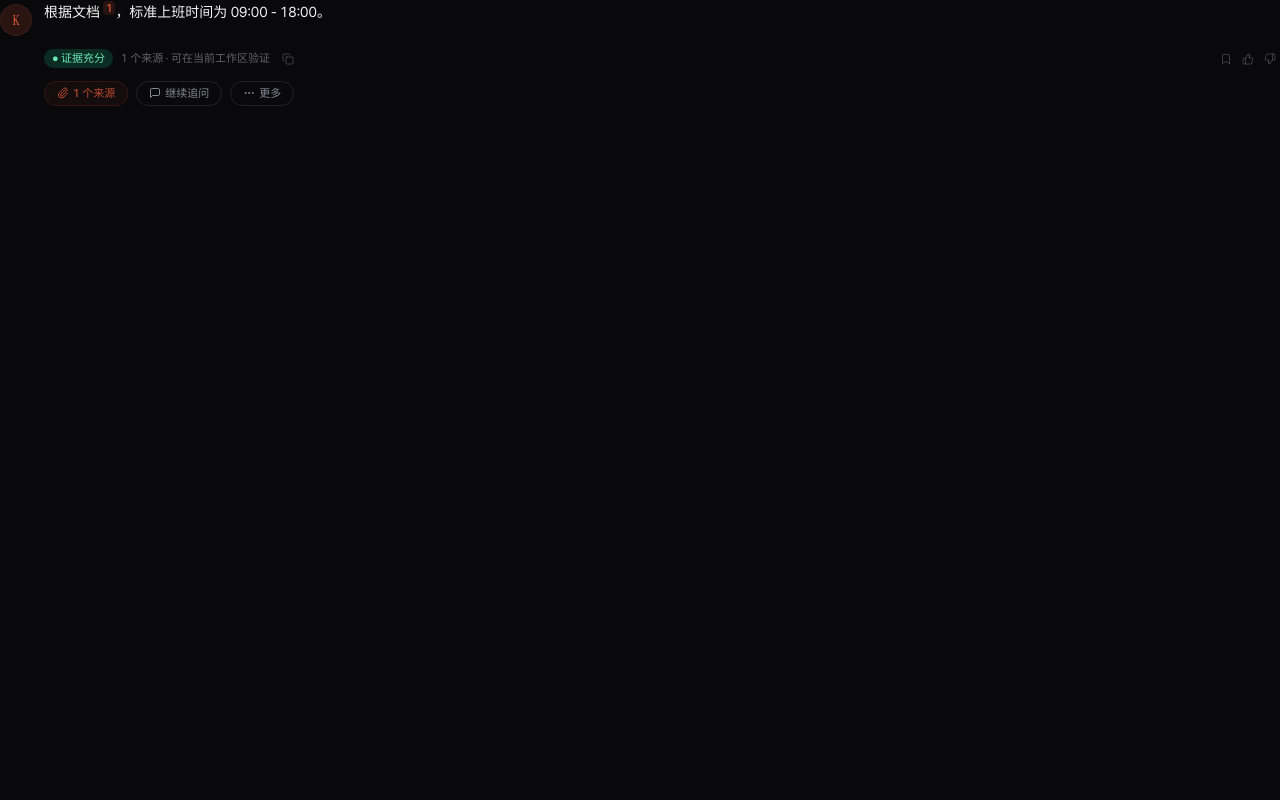
Test case: MessageBubble › submits unhelpful feedback without leaking state into other overlays
Click the button named "无帮助" at (1270, 58), box [1260, 48, 1279, 68]
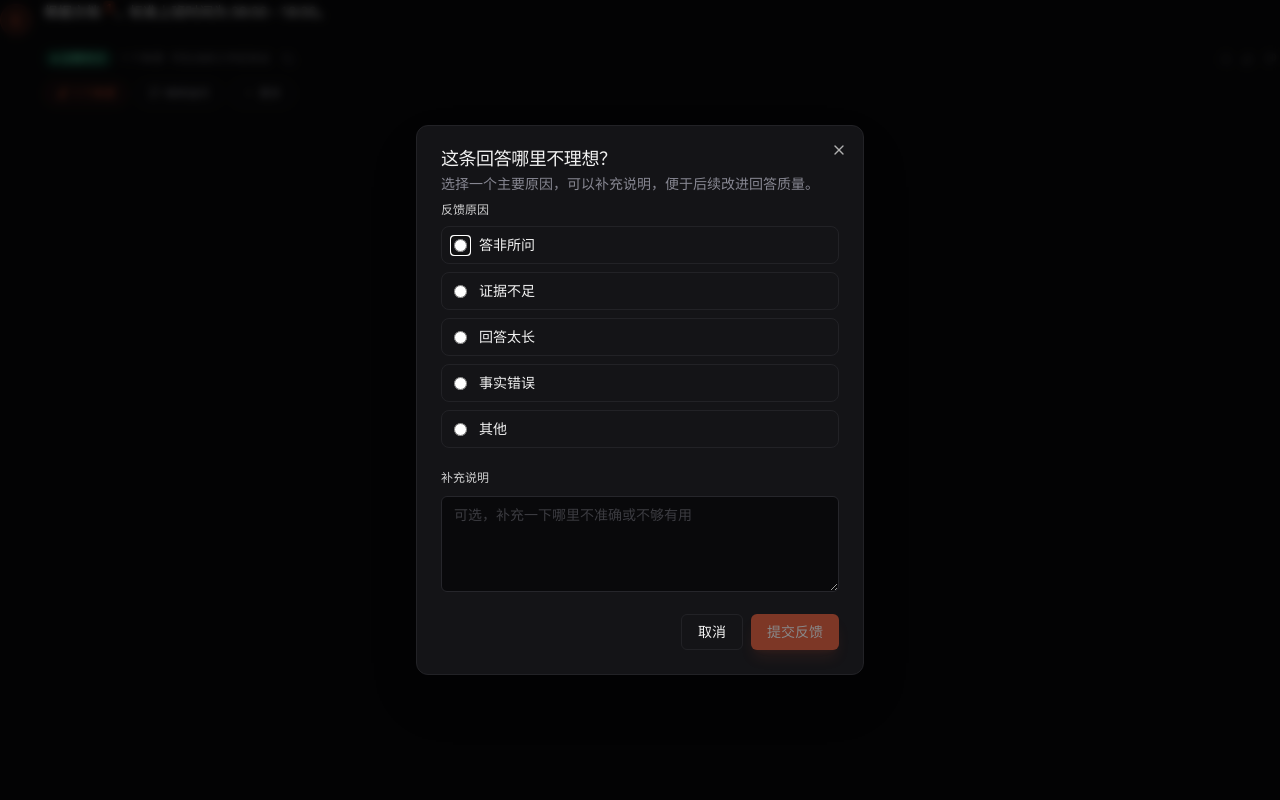
Expected: the dialog "这条回答哪里不理想？" is shown, [416, 125, 864, 675]
Click the radio button labelled "答非所问" at (460, 245), box [454, 238, 467, 252]
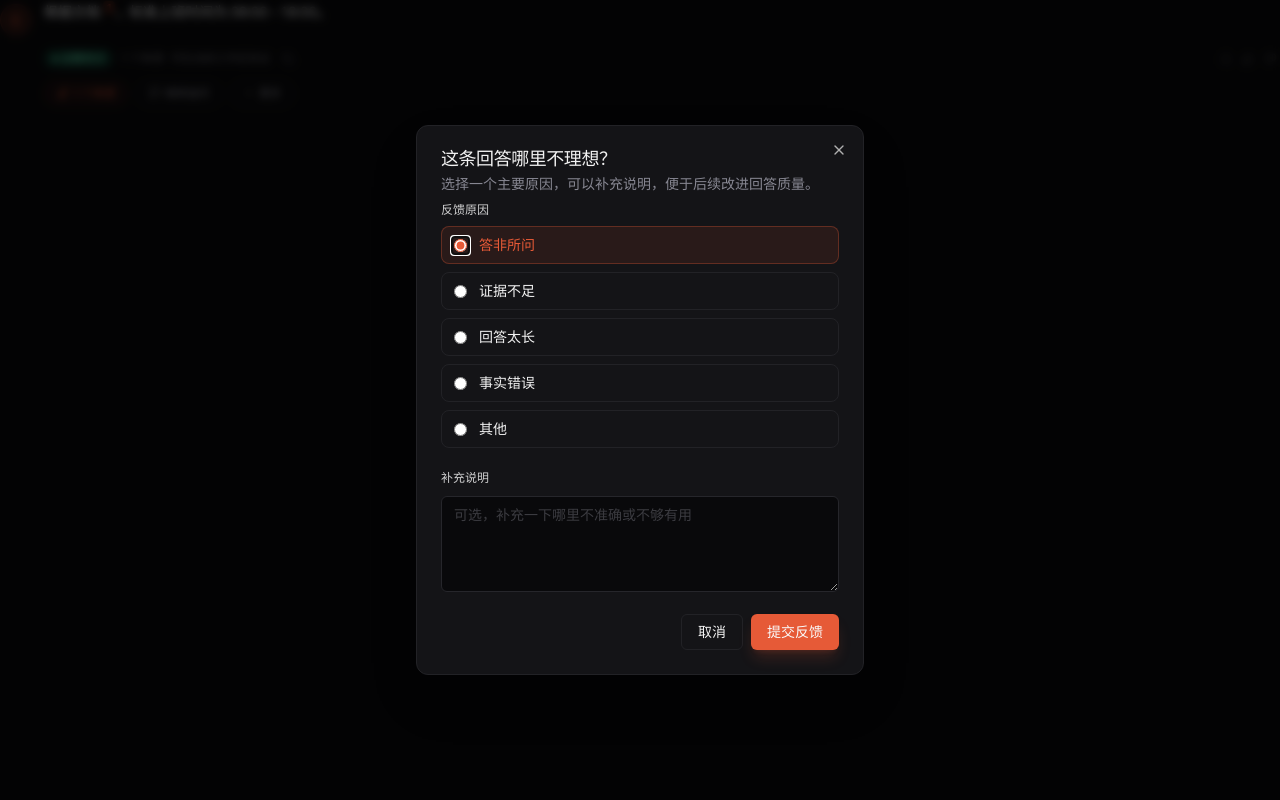
Type "没有回答时间范围" into the text box labelled "补充说明" at (640, 544), box [441, 496, 839, 592]
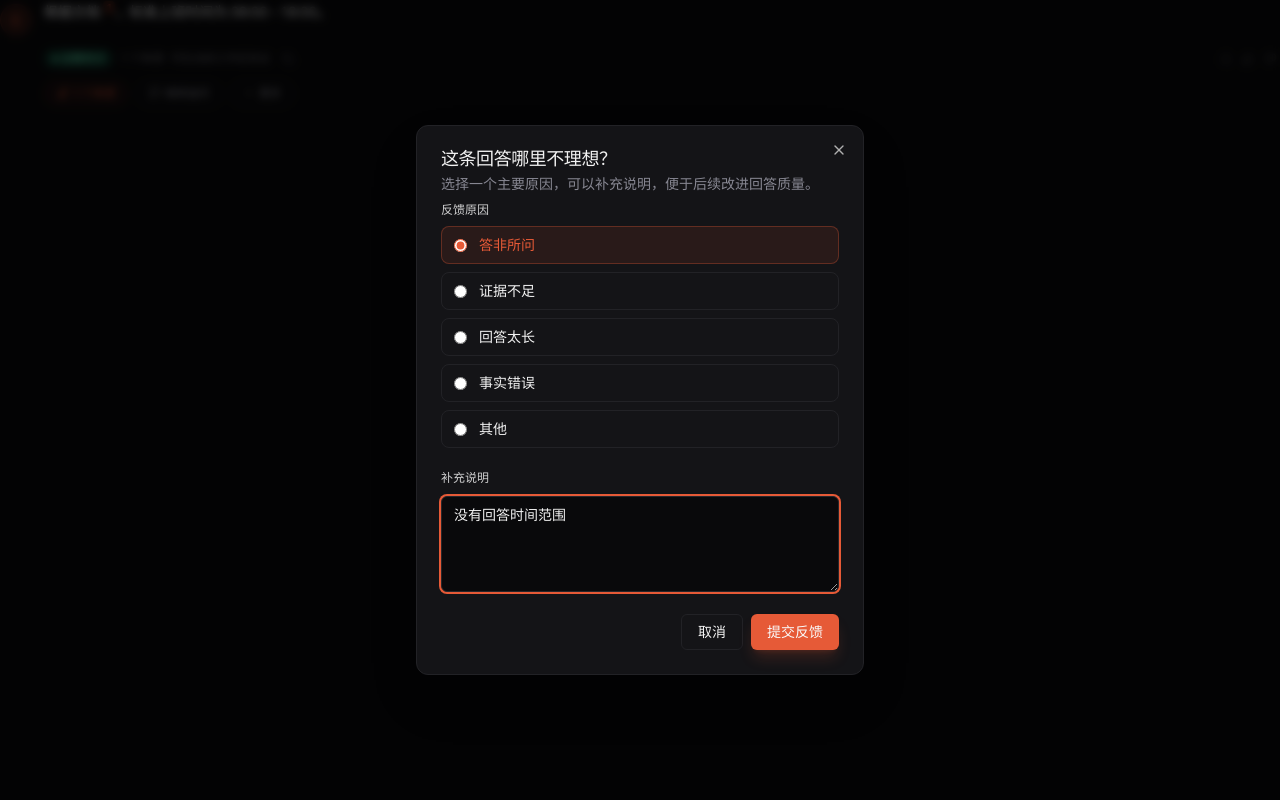
Click the button "提交反馈" at (795, 632), box [751, 614, 839, 650]
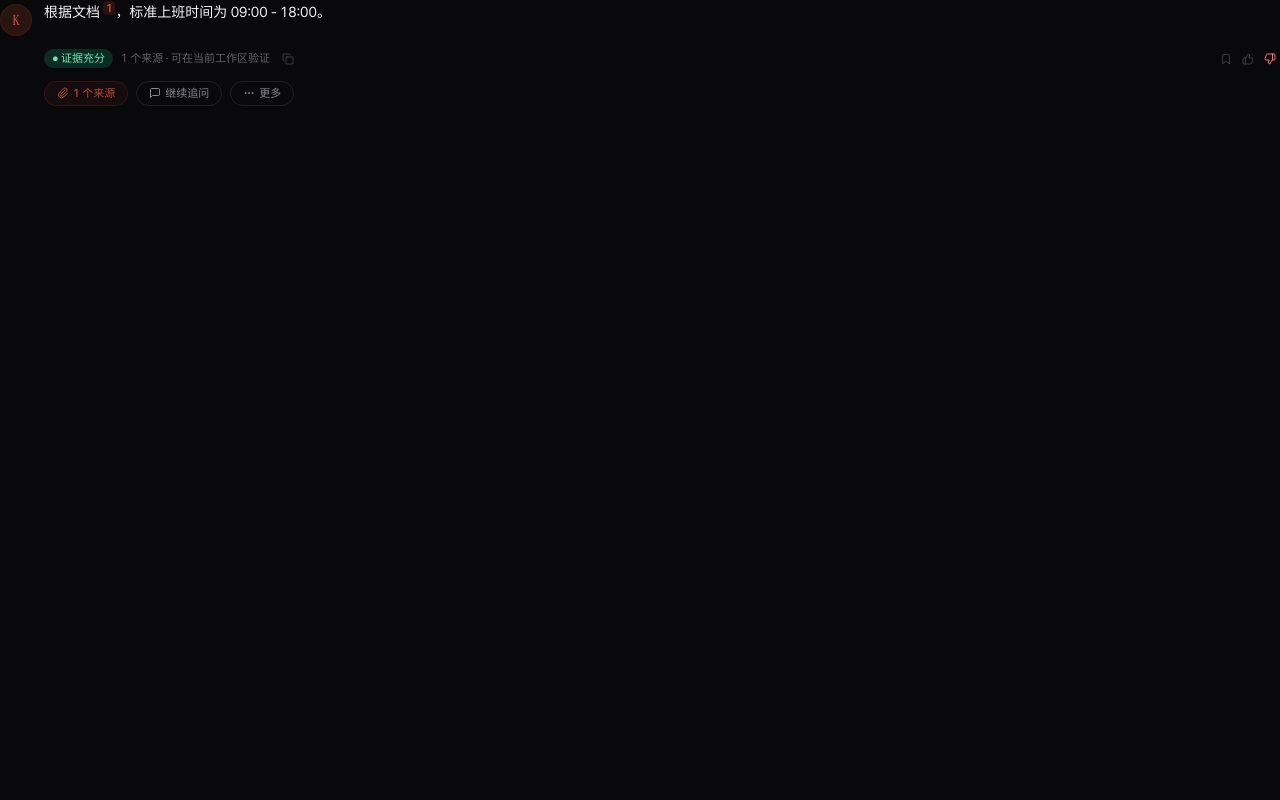
Expected: the heading "这条回答哪里不理想？" is gone
